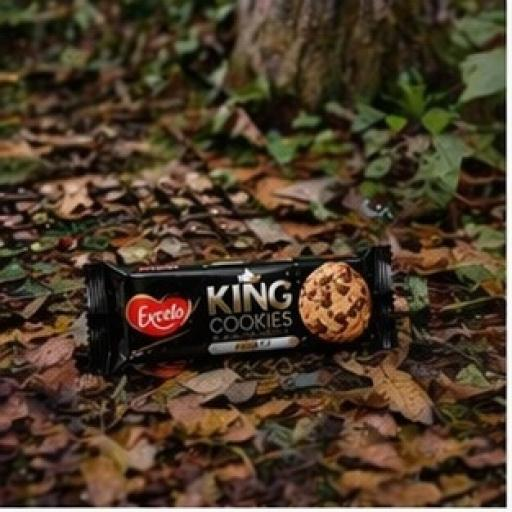king_cooking: (53, 196, 465, 404)
